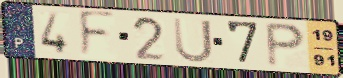2: (131, 15, 168, 62)
4: (38, 10, 72, 56)
7: (224, 19, 261, 67)
F: (77, 9, 117, 60)
P: (263, 20, 309, 69)
U: (171, 16, 216, 65)
